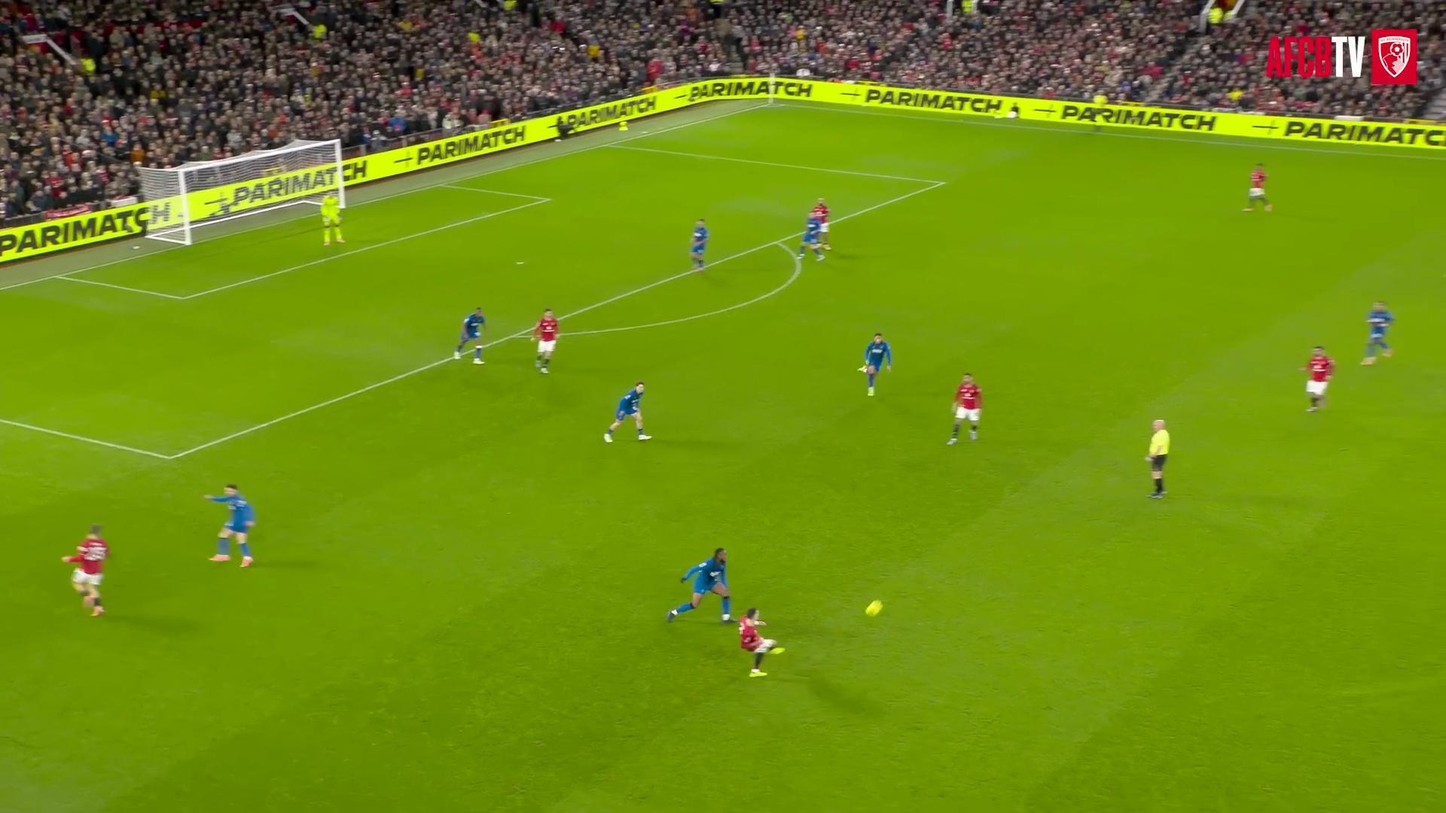football: (860, 595, 895, 624)
player: (667, 547, 730, 623), (205, 484, 255, 567), (63, 525, 108, 616), (739, 607, 784, 677), (604, 381, 651, 443), (948, 374, 980, 444), (1302, 346, 1334, 411), (453, 306, 487, 363), (860, 333, 891, 395), (1362, 302, 1393, 364), (533, 309, 557, 373), (1245, 163, 1271, 211), (320, 193, 343, 245), (798, 214, 823, 260), (811, 197, 831, 249), (691, 218, 709, 272)
referee: (1146, 419, 1170, 498), (1088, 81, 1111, 143)
